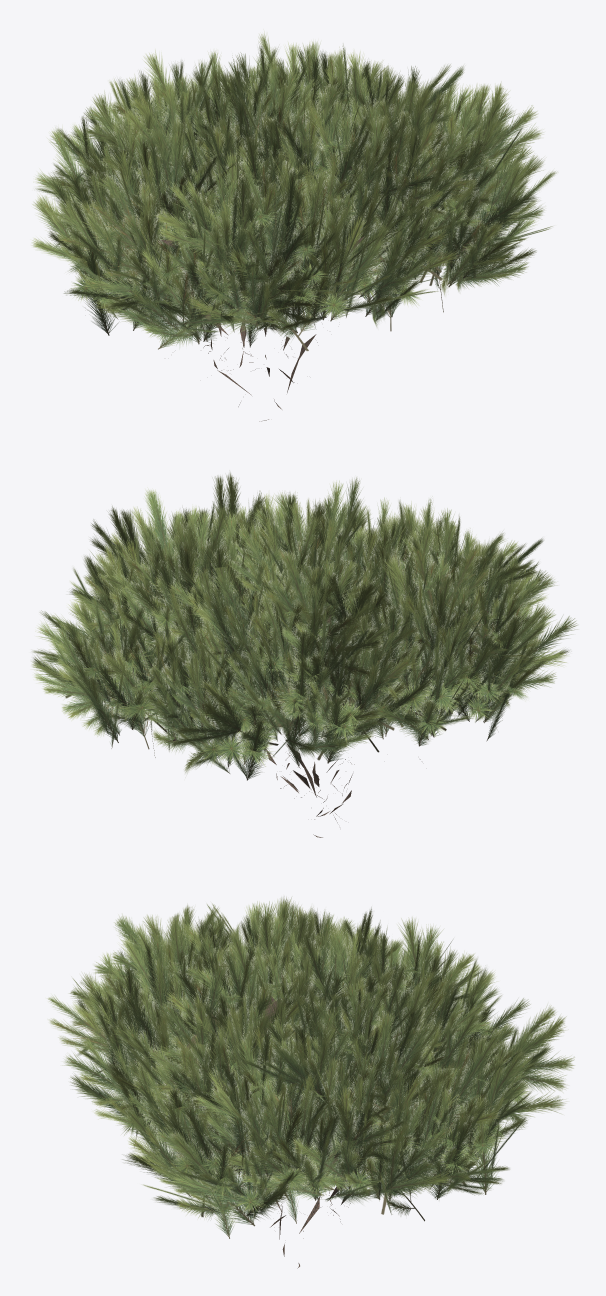
File: tree_pine_hero_far.glb
3 renders of one model, top to bottom at view 1: azimuth 30°, elevation 25°; view 2: azimuth 150°, elevation 25°; view 3: azimuth 270°, elevation 25°, orthographic. The views are drawn at different scales.
Visible parts, largest first — view 1: mx_tree_pine_hero, mx_tree_pine_hero.001; view 2: mx_tree_pine_hero, mx_tree_pine_hero.001; view 3: mx_tree_pine_hero, mx_tree_pine_hero.001.
Part boxes in pixels (bbox=[...]): mx_tree_pine_hero: bbox=[32, 32, 556, 350]; mx_tree_pine_hero.001: bbox=[126, 131, 494, 421]; mx_tree_pine_hero: bbox=[31, 472, 577, 780]; mx_tree_pine_hero.001: bbox=[96, 538, 503, 837]; mx_tree_pine_hero: bbox=[47, 897, 574, 1238]; mx_tree_pine_hero.001: bbox=[145, 966, 492, 1268].
Size of the model in its own units: 20.53 by 12.92 by 19.17.
2 materials, 2 textured.
